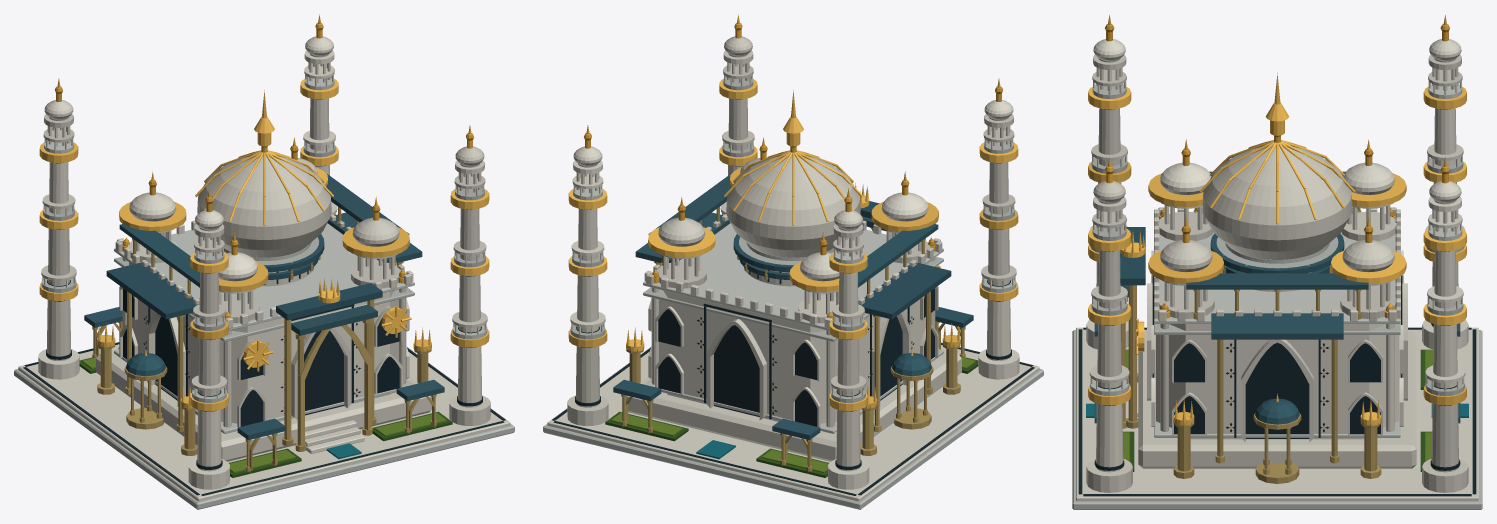
3 views of the same model, side by side, from view 1: azimuth 30°, elevation 25°; view 2: azimuth 150°, elevation 25°; view 3: azimuth 270°, elevation 25° (orthographic). The views are drawn at different scales.
Visible parts, largest first — view 1: fort_L14_0, fort_L14_1; view 2: fort_L14_0, fort_L14_1; view 3: fort_L14_0, fort_L14_1.
Boxes of the visible parts, box(x1,y1,x2,y2) form: fort_L14_0: box(14, 23, 514, 509); fort_L14_1: box(39, 14, 489, 411); fort_L14_0: box(543, 23, 1043, 509); fort_L14_1: box(568, 14, 1018, 411); fort_L14_0: box(1072, 24, 1482, 509); fort_L14_1: box(1088, 15, 1466, 428).
Size of the model in its own units: 7.6 by 7.18 by 7.6.
